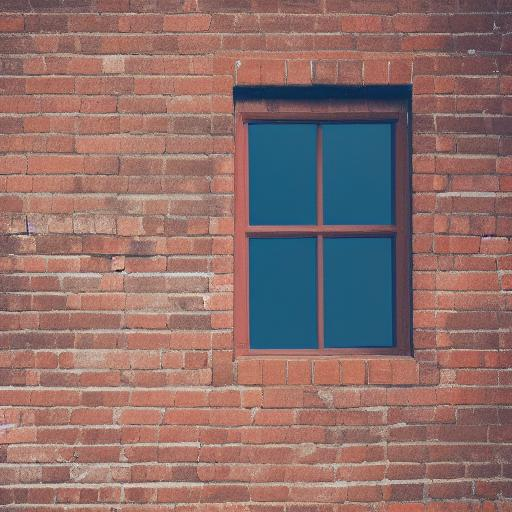Window: (226, 61, 441, 388)
